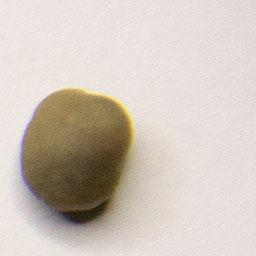peaberry: (17, 84, 136, 216)
